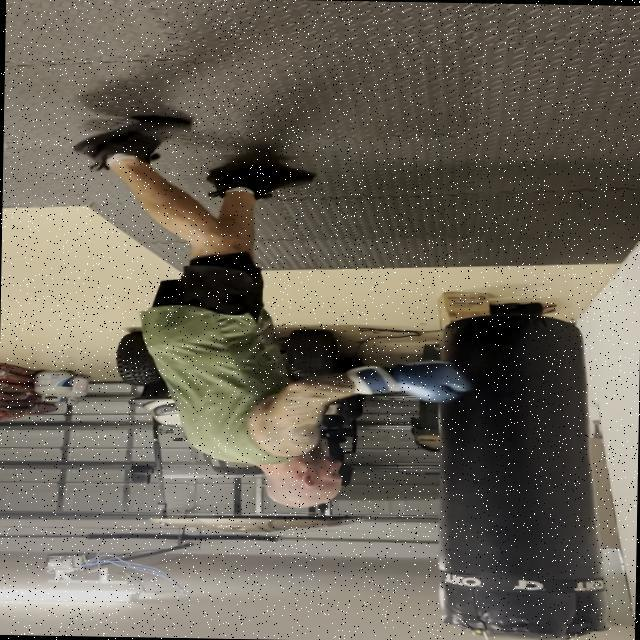punch: (150, 327, 482, 523)
